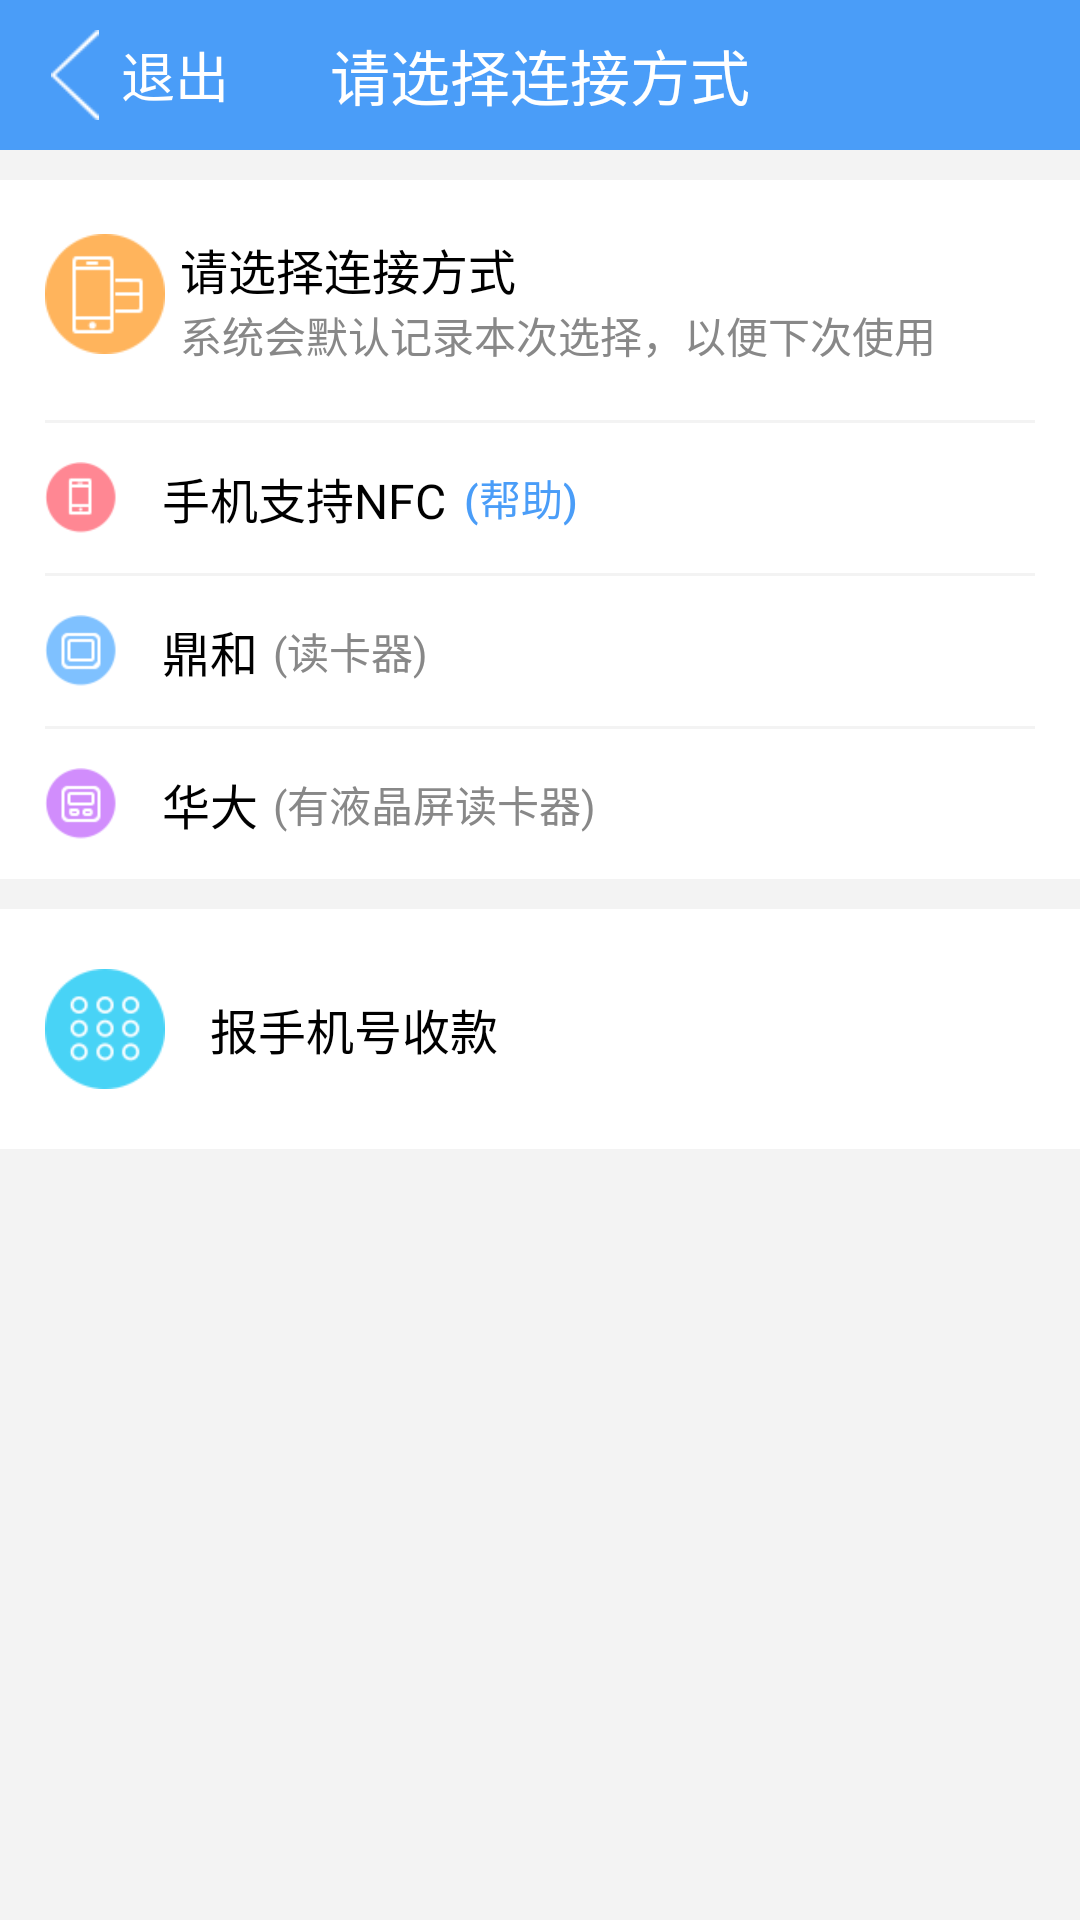

Point at icon controls on the screen. Image size 1080×1920, points as [x,y].
phonebig: [105,294]
phonenfc: [81,497]
